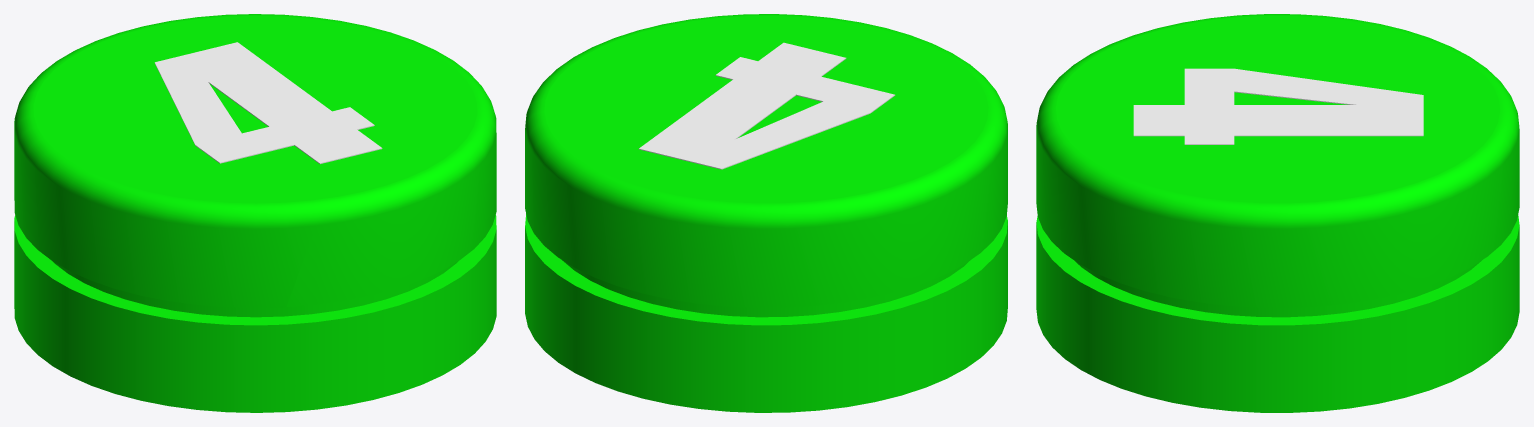
The model's file is nubot_frame4_green.dae.
The picture shows the model from 3 angles, left to right: view 1: azimuth 30°, elevation 25°; view 2: azimuth 150°, elevation 25°; view 3: azimuth 270°, elevation 25°; orthographic projection.
Visible parts, largest first — view 1: SketchUp (×3), instance_0; view 2: SketchUp (×3), instance_0; view 3: SketchUp (×3), instance_0.
Boxes of the visible parts, x1,y1,x2,y2 form: SketchUp (×3): (14, 14, 496, 412); instance_0: (154, 42, 382, 163); SketchUp (×3): (525, 14, 1007, 412); instance_0: (638, 42, 895, 169); SketchUp (×3): (1036, 14, 1519, 412); instance_0: (1133, 68, 1423, 144).
Size of the model in its own units: 19.66 by 19.68 by 9.09.
